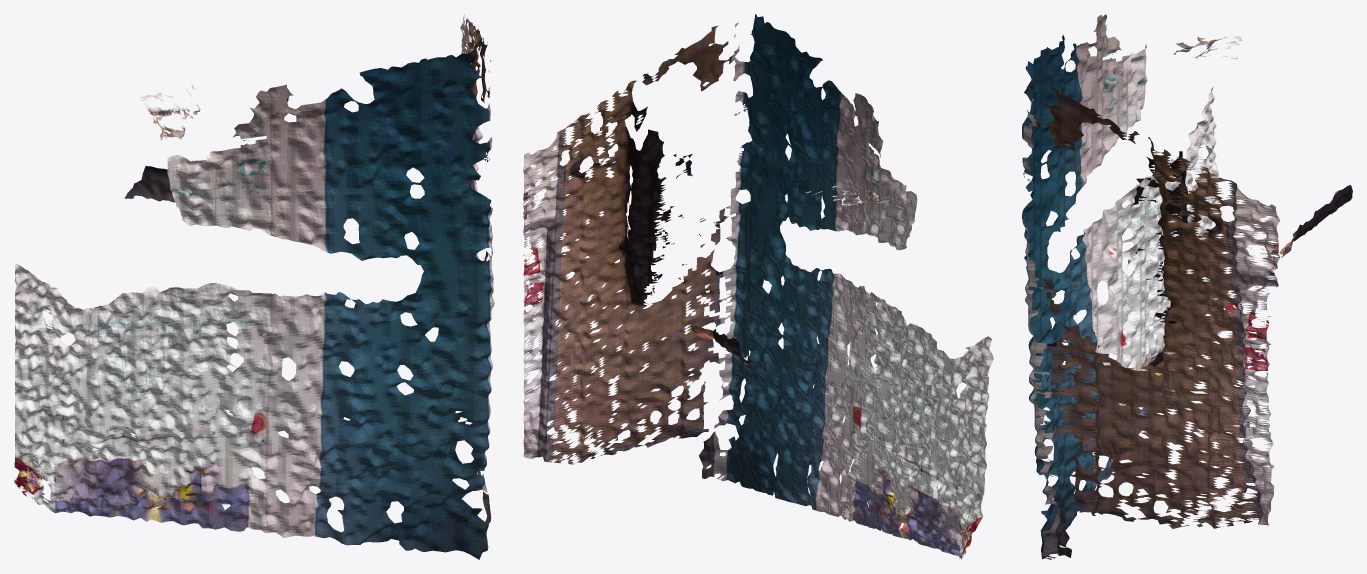
The picture shows the model from 3 angles, left to right: view 1: azimuth 30°, elevation 25°; view 2: azimuth 150°, elevation 25°; view 3: azimuth 270°, elevation 25°; orthographic projection. The views are drawn at different scales.
Visible parts, largest first — view 1: MeshNode; view 2: MeshNode; view 3: MeshNode.
Part boxes in pixels (x1,y1,x2,y2): MeshNode: [14, 14, 494, 559]; MeshNode: [523, 14, 993, 559]; MeshNode: [1022, 14, 1352, 559].
Bounding box in the file's own units: 2403 × 2426 × 1494.
Materials: 1 (1 with a texture image).
